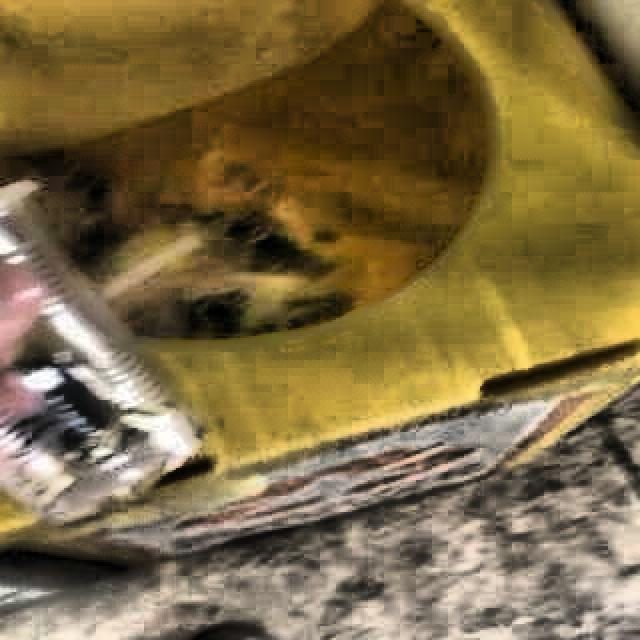plastic: (0, 184, 200, 525)
